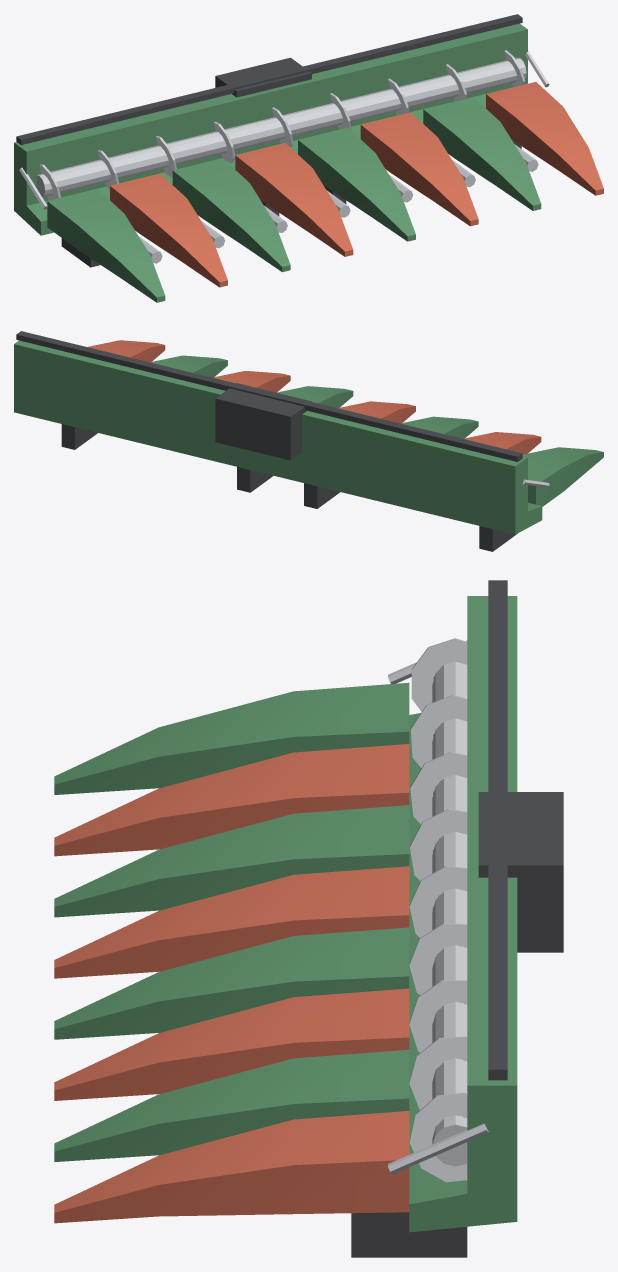
The model's file is arable-fields-and-farm-machinery-maize-header-84984939__16851.glb.
The picture shows the model from 3 angles, top to bottom: view 1: azimuth 30°, elevation 25°; view 2: azimuth 150°, elevation 25°; view 3: azimuth 270°, elevation 25°; orthographic projection. The views are drawn at different scales.
Visible parts, largest first — view 1: maize-header; view 2: maize-header; view 3: maize-header.
Boxes of the visible parts, bbox=[...] form: maize-header: bbox=[14, 14, 603, 302]; maize-header: bbox=[14, 331, 603, 551]; maize-header: bbox=[54, 580, 563, 1257].
Bounding box in the file's own units: 6.06 × 1.27 × 2.64.
